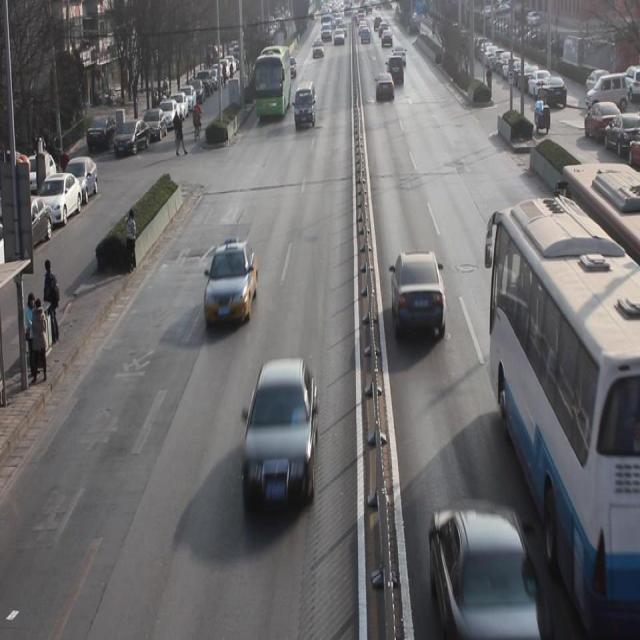car: (429, 500, 550, 640), (241, 364, 320, 514), (388, 248, 448, 340), (203, 241, 259, 326), (385, 56, 406, 85), (375, 73, 395, 100), (290, 57, 297, 77)
truck: (294, 83, 317, 130)
van: (488, 193, 640, 627), (559, 166, 640, 402), (253, 47, 290, 121)
